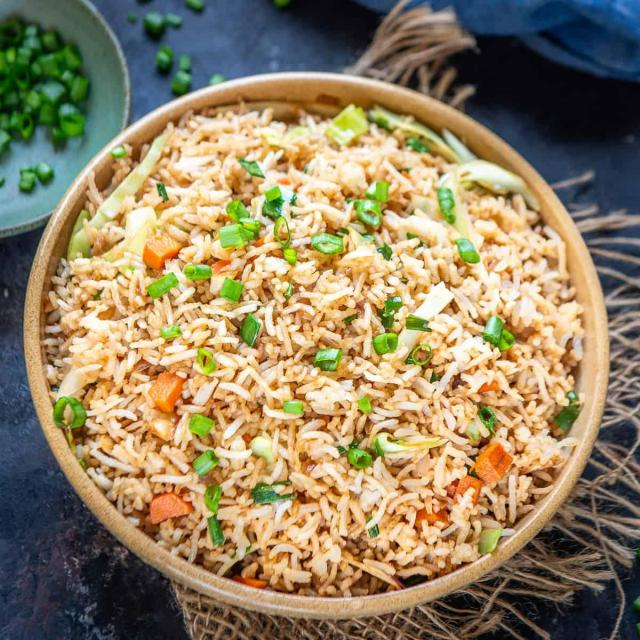Nasi Goreng: (43, 100, 586, 597)
